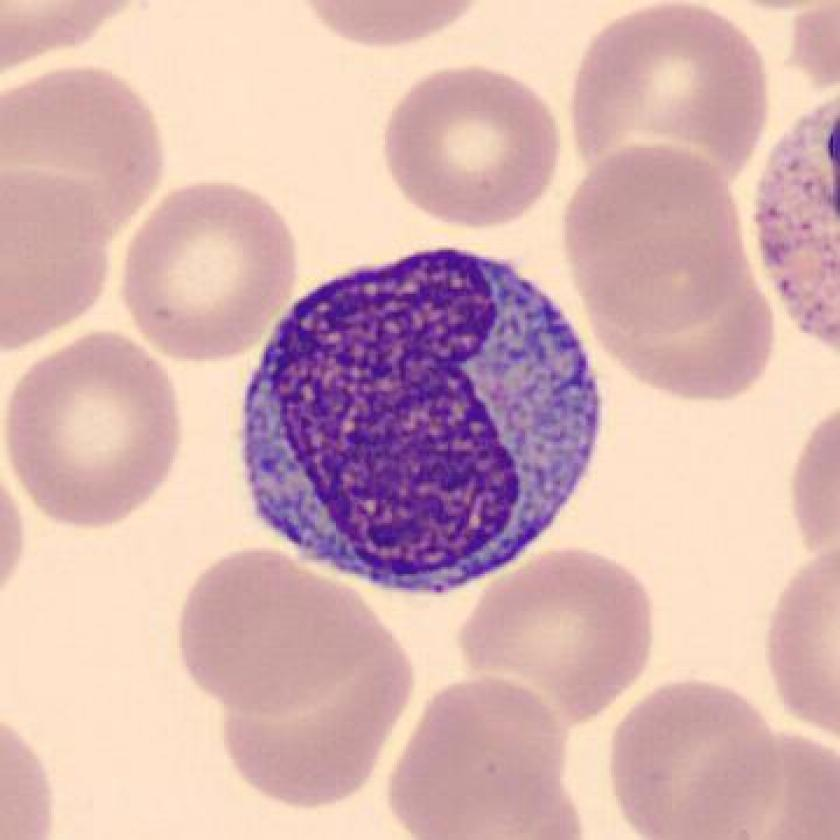monocyte: (225, 226, 619, 617)
